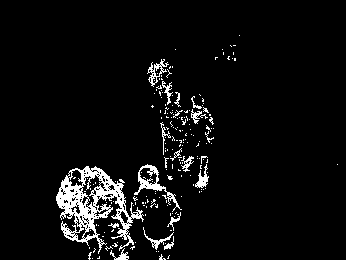person: (135, 162, 185, 260), (60, 162, 102, 260), (100, 183, 138, 260), (186, 93, 215, 190), (158, 84, 186, 175)
